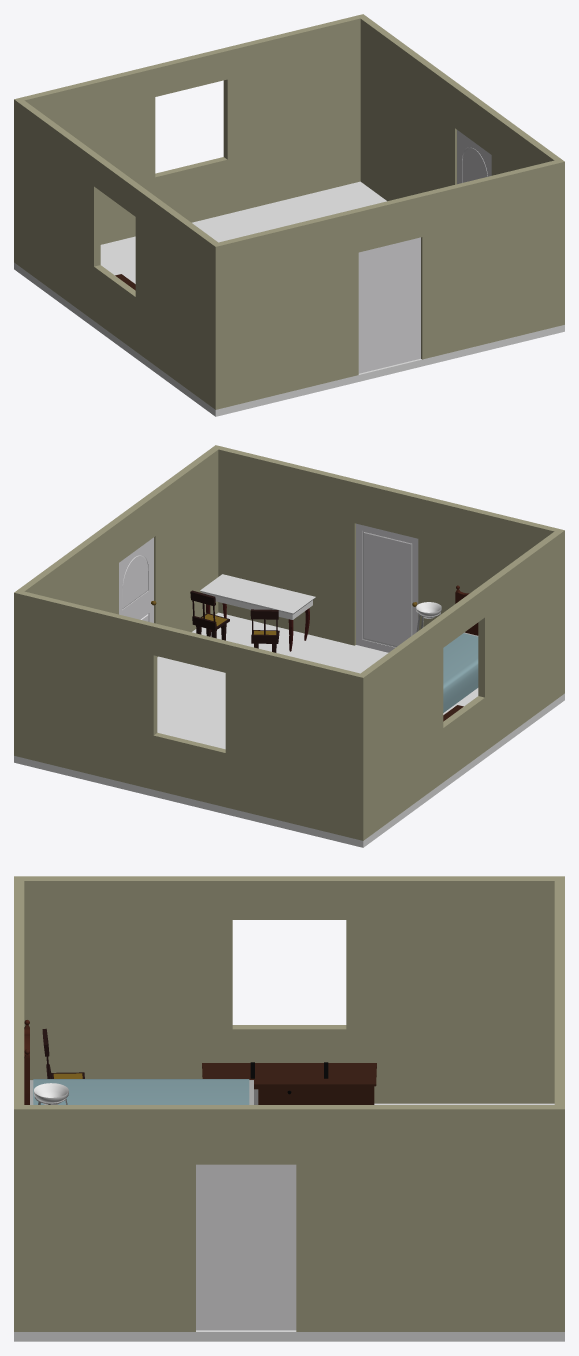
File: StanzaCasaPavese.fbx
The picture shows the model from 3 angles, top to bottom: view 1: azimuth 30°, elevation 25°; view 2: azimuth 150°, elevation 25°; view 3: azimuth 270°, elevation 25°; orthographic projection. The views are drawn at different scales.
Visible parts, largest first — view 1: muro porta letto, muro finestra.001, muro finestra, muro porta, pavimento, porta entrata, porta secondaria; view 2: muro finestra.001, muro porta letto, muro finestra, muro porta, pavimento, porta entrata, scrivania, porta secondaria, coperta, sedia 1, sedia 2; view 3: muro porta, muro finestra, porta secondaria, pavimento, baule, coperta, muro porta letto, muro finestra.001, vaso 1.
Boxes of the visible parts, box(x1,y1,x2,y2) form: muro porta letto: box(212, 159, 564, 409); muro finestra.001: box(14, 14, 366, 264); muro finestra: box(17, 100, 217, 406); muro porta: box(360, 17, 560, 201); pavimento: box(14, 181, 564, 416); porta entrata: box(358, 237, 420, 373); porta secondaria: box(457, 130, 491, 184); muro finestra.001: box(14, 590, 366, 840); muro porta letto: box(212, 445, 564, 695); muro finestra: box(361, 531, 561, 837); muro porta: box(18, 448, 218, 656); pavimento: box(14, 612, 564, 847); porta entrata: box(356, 523, 418, 652); scrivania: box(200, 574, 315, 619); porta secondaria: box(119, 537, 153, 622); coperta: box(443, 633, 478, 712); sedia 1: box(190, 590, 229, 640); sedia 2: box(250, 609, 279, 652); muro porta: box(24, 1105, 554, 1331); muro finestra: box(24, 876, 554, 1103); porta secondaria: box(196, 1164, 296, 1330); pavimento: box(14, 1103, 564, 1341); baule: box(202, 1063, 376, 1104); coperta: box(33, 1079, 249, 1104); muro porta letto: box(14, 876, 24, 1331); muro finestra.001: box(554, 876, 564, 1331); vaso 1: box(34, 1083, 68, 1104).
Size of the model in its own units: 1783 by 829 by 1783.
